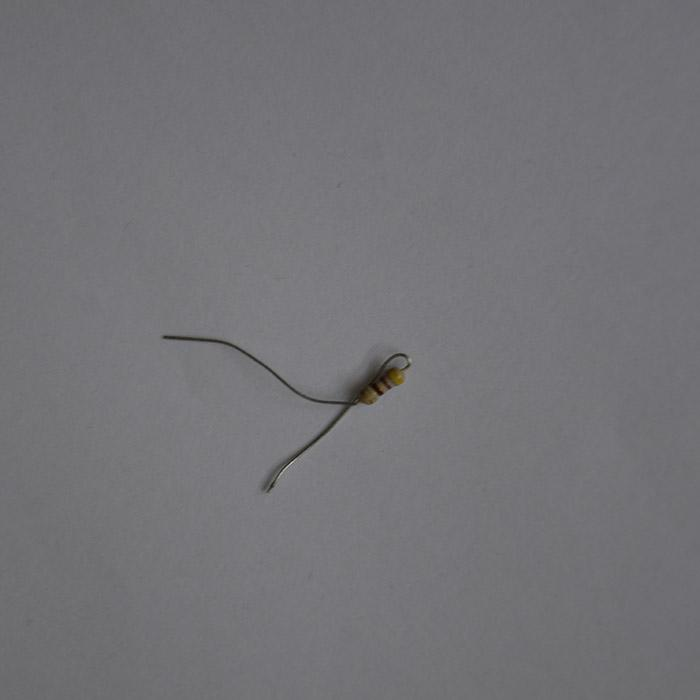resistor: (359, 357, 410, 405)
